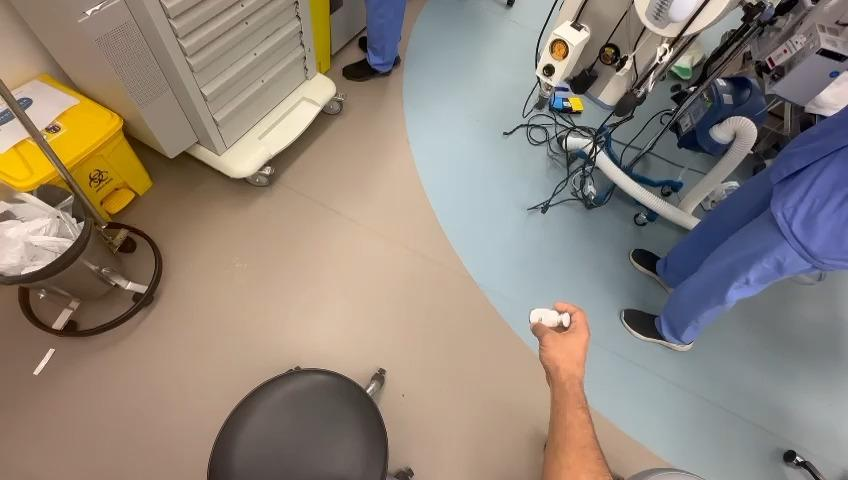augmentin: (530, 308, 571, 327)
